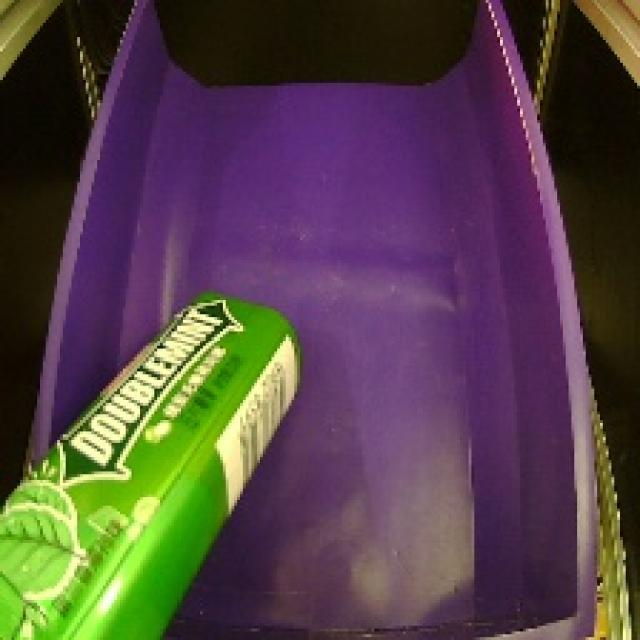metal: (0, 271, 317, 640)
